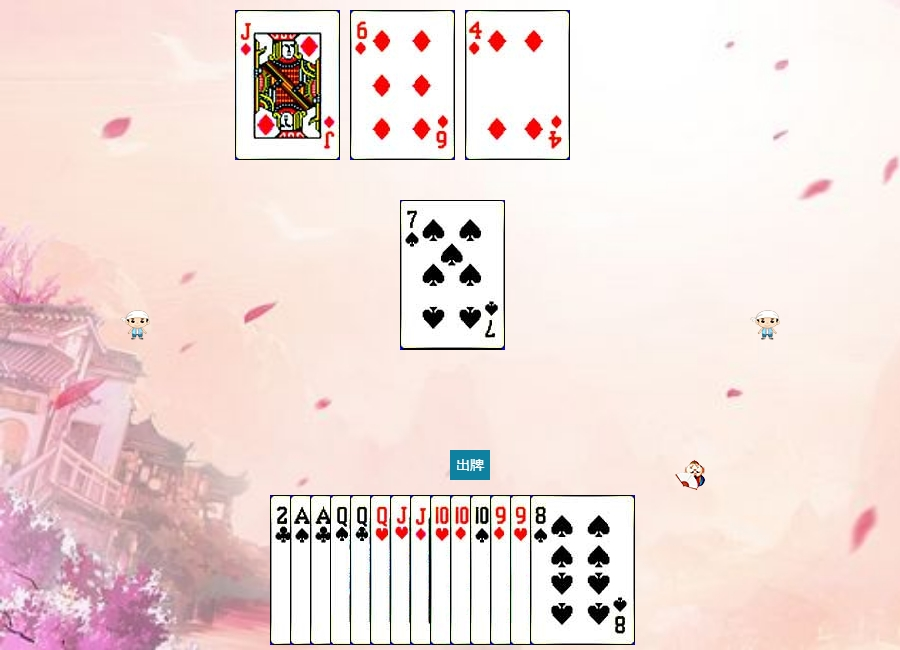10~1: (450, 495, 555, 645)
10~3: (430, 495, 535, 645)
10~4: (470, 495, 575, 645)
11~1: (235, 10, 340, 160), (410, 495, 515, 645)
11~3: (390, 495, 495, 645)
12~2: (350, 495, 455, 645)
12~3: (370, 495, 475, 645)
12~4: (330, 495, 435, 645)
14~2: (310, 495, 415, 645)
14~4: (290, 495, 395, 645)
15~2: (270, 495, 375, 645)
4~1: (465, 10, 570, 160)
6~1: (350, 10, 455, 160)
7~4: (400, 200, 505, 350)
8~4: (530, 495, 635, 645)
9~1: (490, 495, 595, 645)
9~3: (510, 495, 615, 645)
